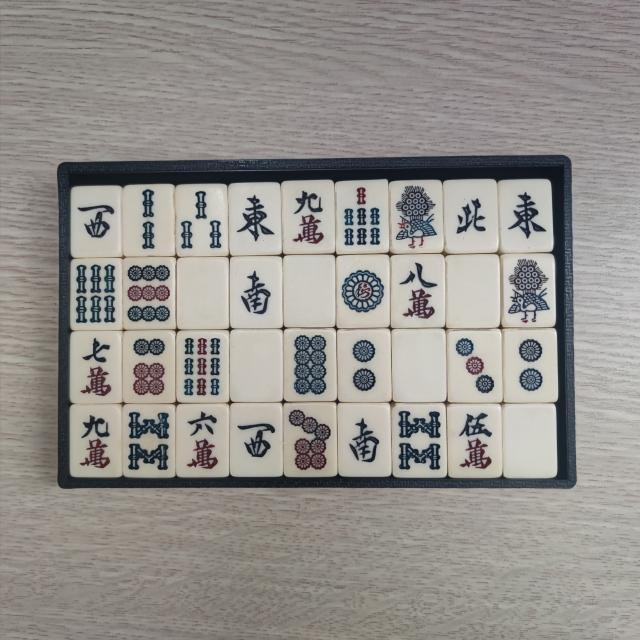hdw: (398, 334, 442, 397), (508, 409, 550, 473), (452, 260, 494, 323), (236, 334, 278, 396), (290, 260, 332, 322), (182, 262, 222, 324)
hwe: (504, 185, 550, 248), (234, 188, 278, 250)
hwn: (448, 186, 490, 248)
hws: (342, 408, 385, 470), (235, 262, 278, 324)
hww: (234, 410, 278, 473), (76, 190, 119, 252)
sb1: (506, 258, 552, 325), (394, 184, 440, 250)
sb2: (127, 186, 170, 252)
sb3: (182, 188, 227, 254)
sb6: (72, 262, 116, 326)
sb7: (340, 184, 384, 250)
sb8: (396, 409, 444, 475), (126, 410, 172, 476)
sb9: (182, 334, 225, 398)
sc5: (453, 408, 497, 473)
sc6: (182, 408, 224, 472)
sc7: (76, 334, 118, 400)
sc8: (396, 259, 442, 323)
sc9: (287, 184, 330, 248), (75, 412, 117, 475)
sd1: (340, 259, 386, 324)
sd2: (342, 334, 385, 398), (510, 334, 552, 399)
sd3: (451, 333, 497, 398)
sd6: (128, 338, 170, 400)
sd7: (288, 410, 334, 474)
sd8: (289, 334, 331, 396)
sd9: (126, 262, 173, 324)
